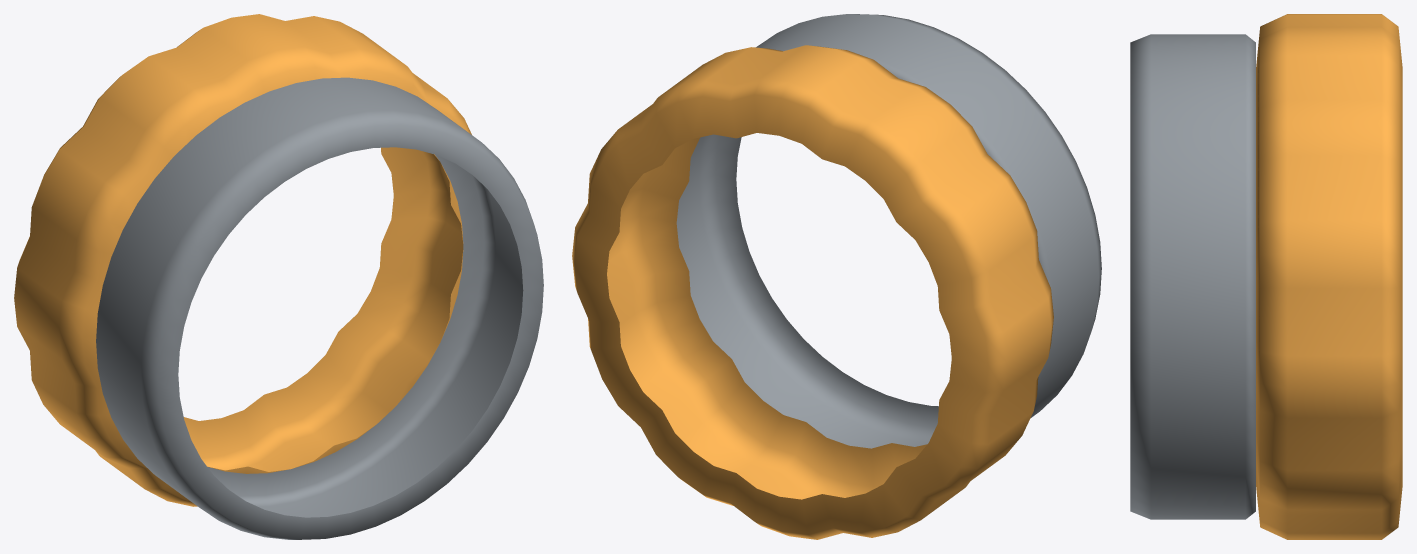
Rendered from schlauchkupplung.glb.
3 views of the same model, side by side, from view 1: azimuth 30°, elevation 25°; view 2: azimuth 150°, elevation 25°; view 3: azimuth 270°, elevation 25° (orthographic). The views are drawn at different scales.
Visible parts, largest first — view 1: schlauchkupplung_lod0; view 2: schlauchkupplung_lod0; view 3: schlauchkupplung_lod0.
Part boxes in pixels (x1,y1,x2,y2): schlauchkupplung_lod0: [14, 14, 543, 539]; schlauchkupplung_lod0: [572, 14, 1101, 539]; schlauchkupplung_lod0: [1130, 14, 1402, 539].
Size of what is drawn, in the model's own units: 2.52 by 2.52 by 1.3.
